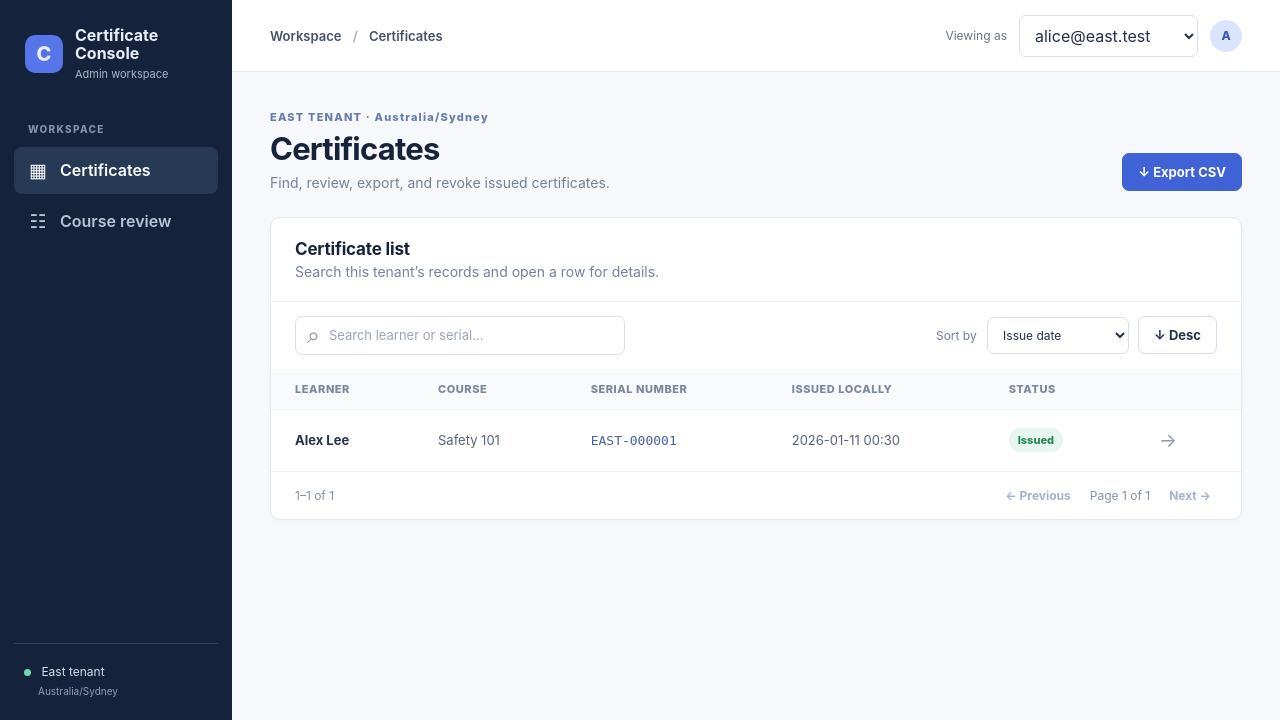
Scenario: certificate console › confirms revocation and preserves search and sort for protected export
Later steps or results of the test are not shown.
Expected: the text "EAST-000001" is shown, x1=567 y1=409 x2=768 y2=471
Click the button named "Open EAST-000001": [1168, 440] box x1=1151 y1=426 x2=1185 y2=455
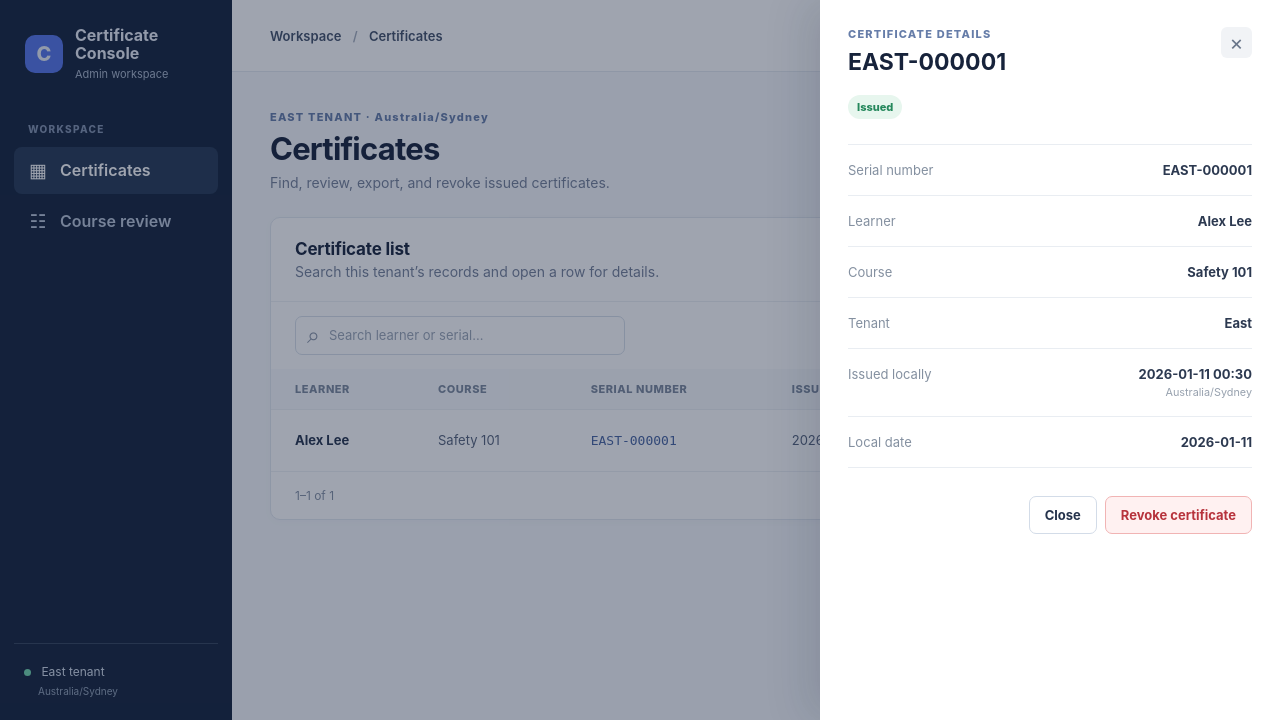
Result: the button "Revoke certificate" is shown
Click the button "Revoke certificate": [1178, 515] box x1=1105 y1=496 x2=1252 y2=534
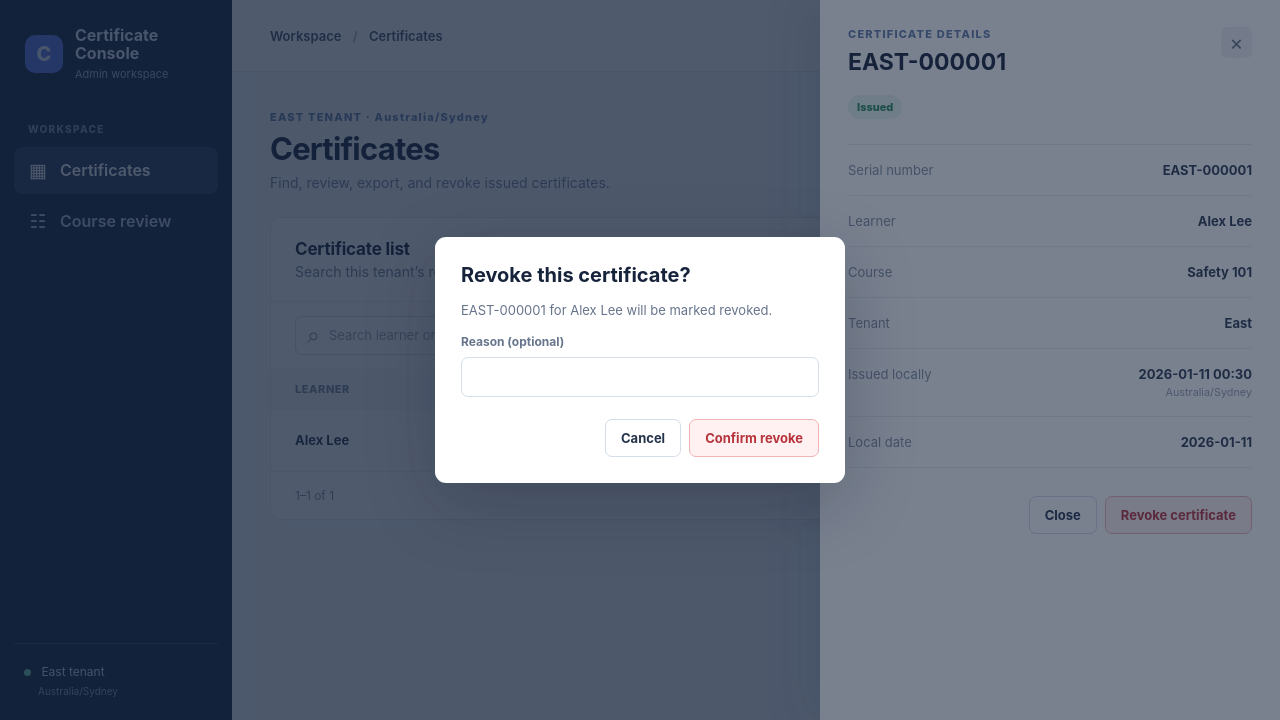
Result: the dialog "Revoke this certificate?" is shown at x1=435 y1=237 x2=845 y2=483
Click the button "Cancel": [643, 438] box x1=605 y1=419 x2=681 y2=457
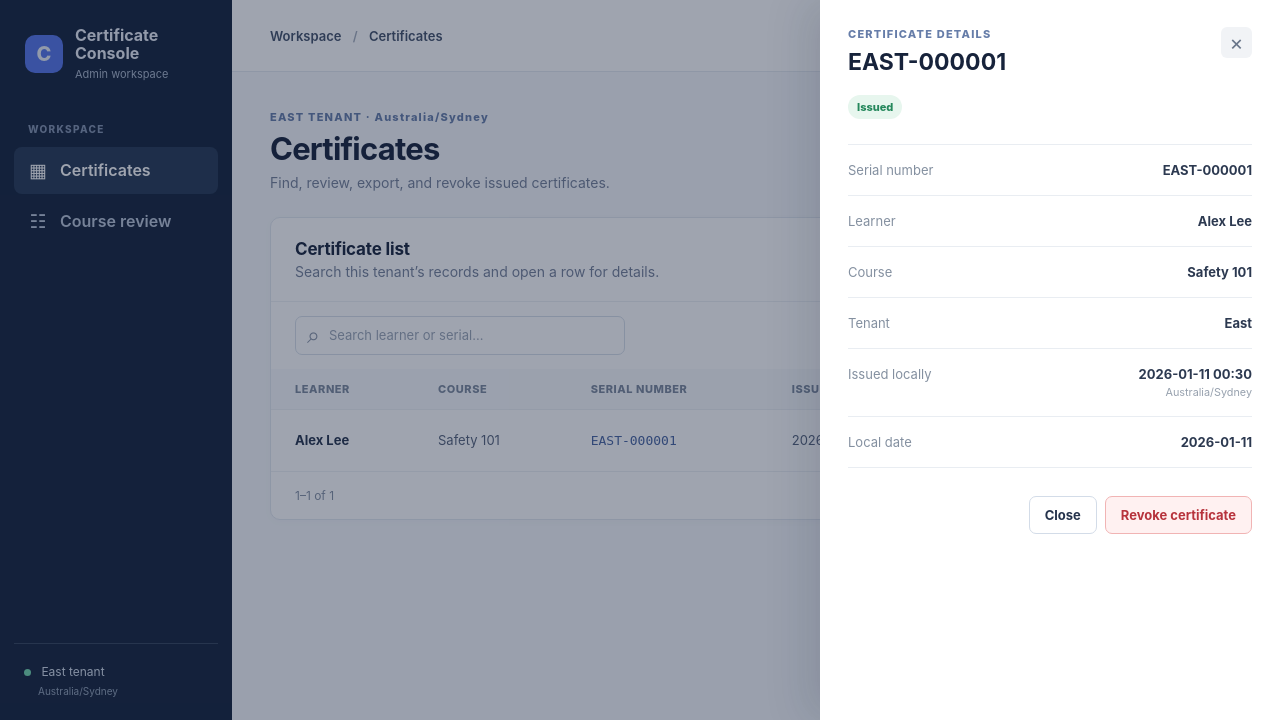
Result: the dialog is gone
Click the button "Revoke certificate": [1178, 515] box x1=1105 y1=496 x2=1252 y2=534
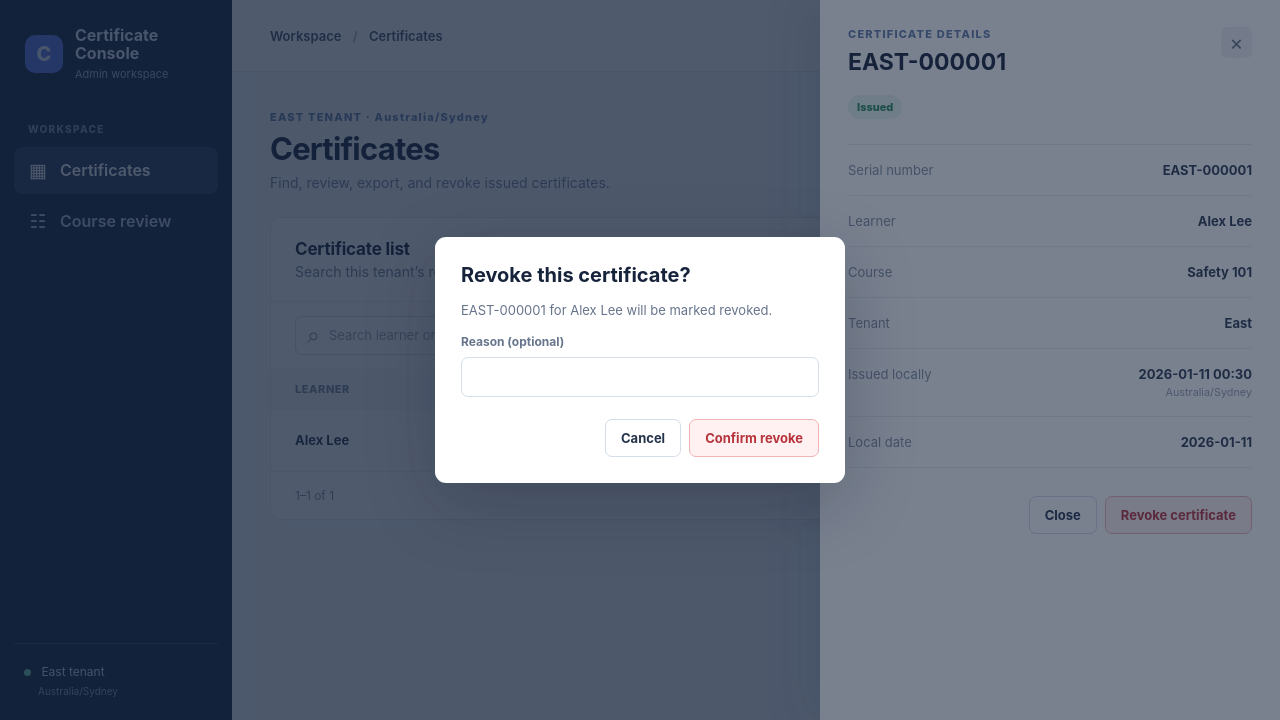
Click the button "Confirm revoke": [754, 438] box x1=689 y1=419 x2=819 y2=457
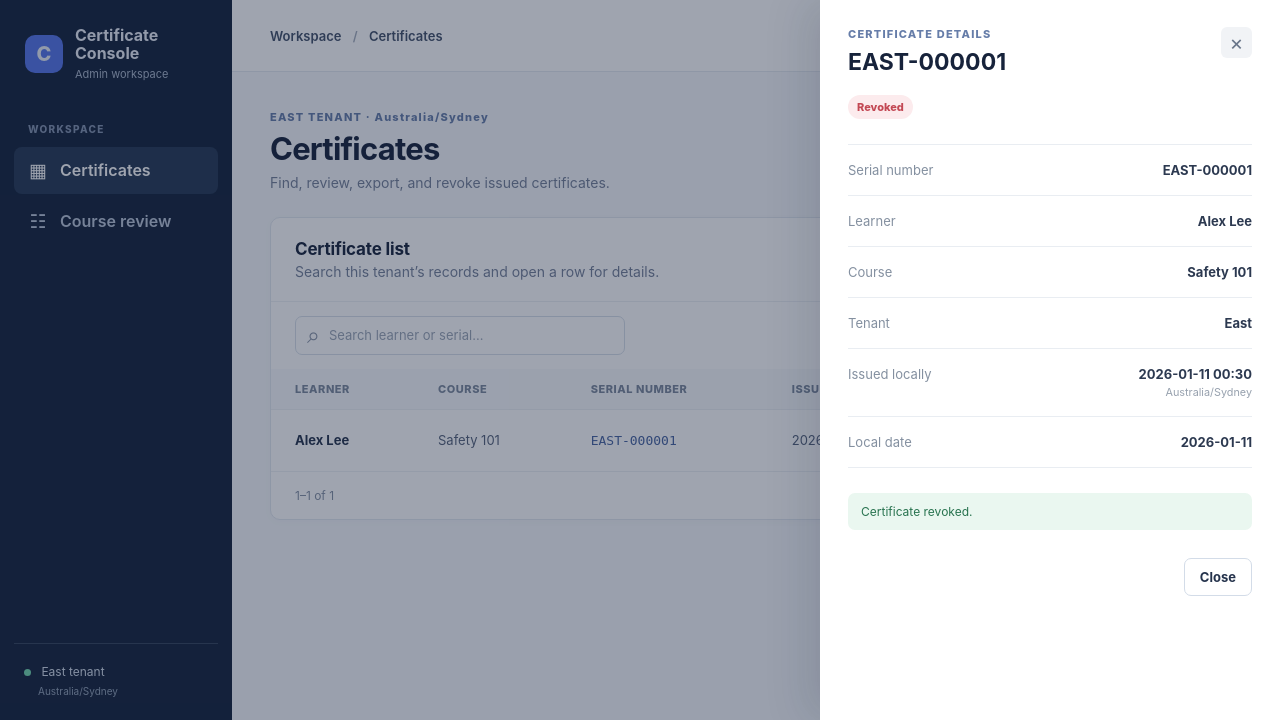
Result: the text "Certificate revoked." is shown at x1=848 y1=493 x2=1252 y2=530
